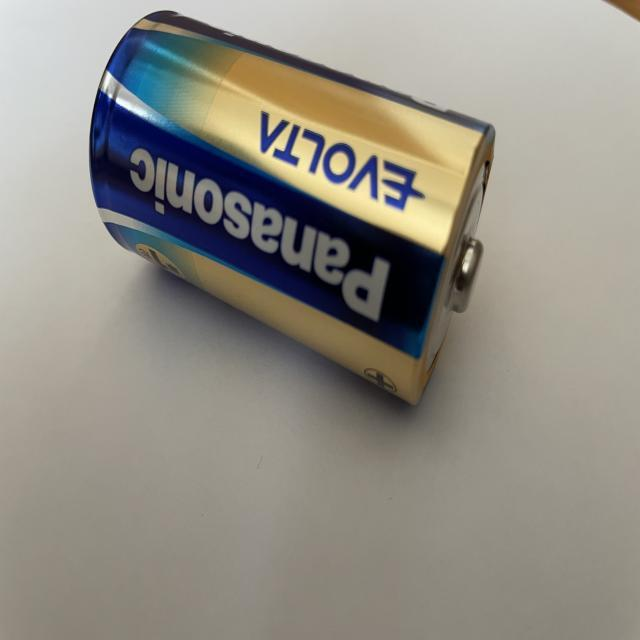hazardous waste: (84, 6, 497, 408)
